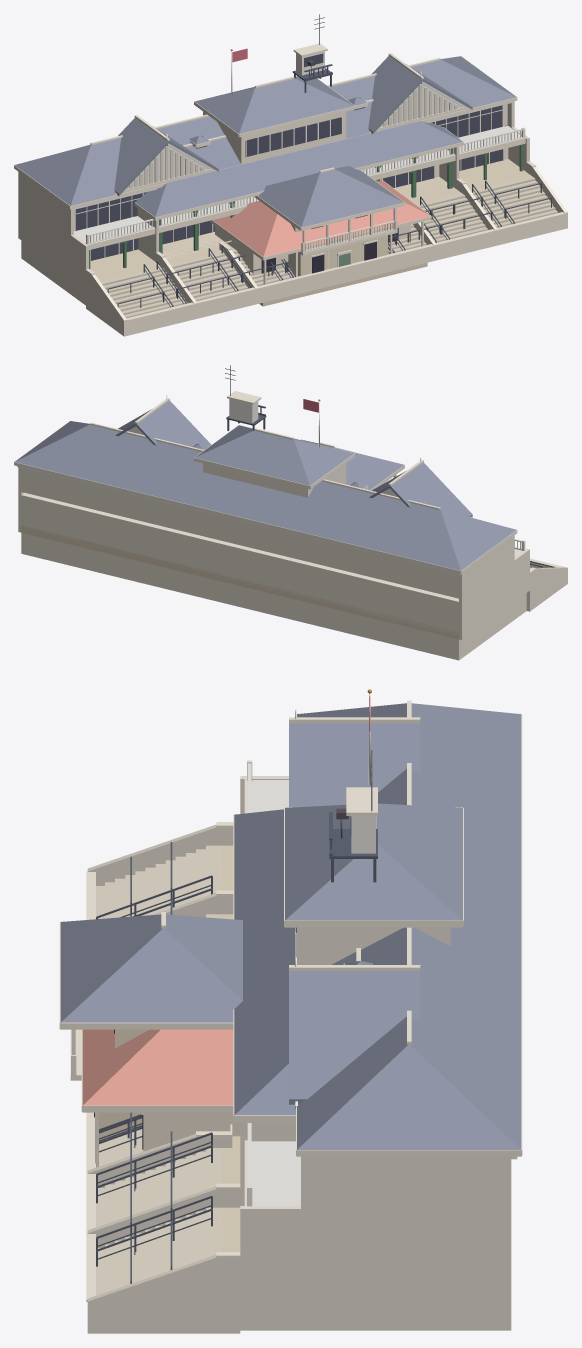
The model's file is gen-park-r-small_stands.glb.
3 views of the same model, one above another, from view 1: azimuth 30°, elevation 25°; view 2: azimuth 150°, elevation 25°; view 3: azimuth 270°, elevation 25° (orthographic). The views are drawn at different scales.
Visible parts, largest first — view 1: gen_veranda_stand, gen_veranda_wing, victorian_pavilion, ring_pavilion_small, gen_terrace_20; view 2: gen_veranda_stand, victorian_pavilion; view 3: gen_veranda_stand, gen_veranda_wing, victorian_pavilion, ring_pavilion_small, gen_terrace_20.
Boxes of the visible parts, box(x1,y1,x2,y2) form: gen_veranda_stand: box(14, 14, 567, 336); gen_veranda_wing: box(134, 97, 497, 318); victorian_pavilion: box(254, 166, 404, 276); ring_pavilion_small: box(209, 179, 431, 306); gen_terrace_20: box(219, 222, 436, 301); gen_veranda_stand: box(14, 365, 567, 660); victorian_pavilion: box(300, 439, 404, 490); gen_veranda_stand: box(86, 689, 522, 1333); gen_veranda_wing: box(86, 809, 372, 1247); victorian_pavilion: box(59, 912, 242, 1140); ring_pavilion_small: box(81, 1029, 240, 1167); gen_terrace_20: box(86, 1112, 232, 1187).
Bounding box in the file's own units: 51.1 × 22.9 × 22.9.
